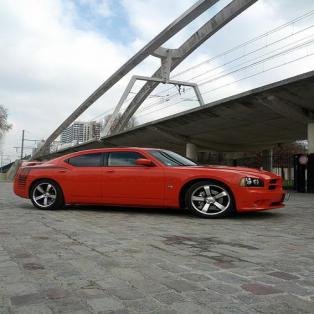Auto: (16, 147, 285, 216)
